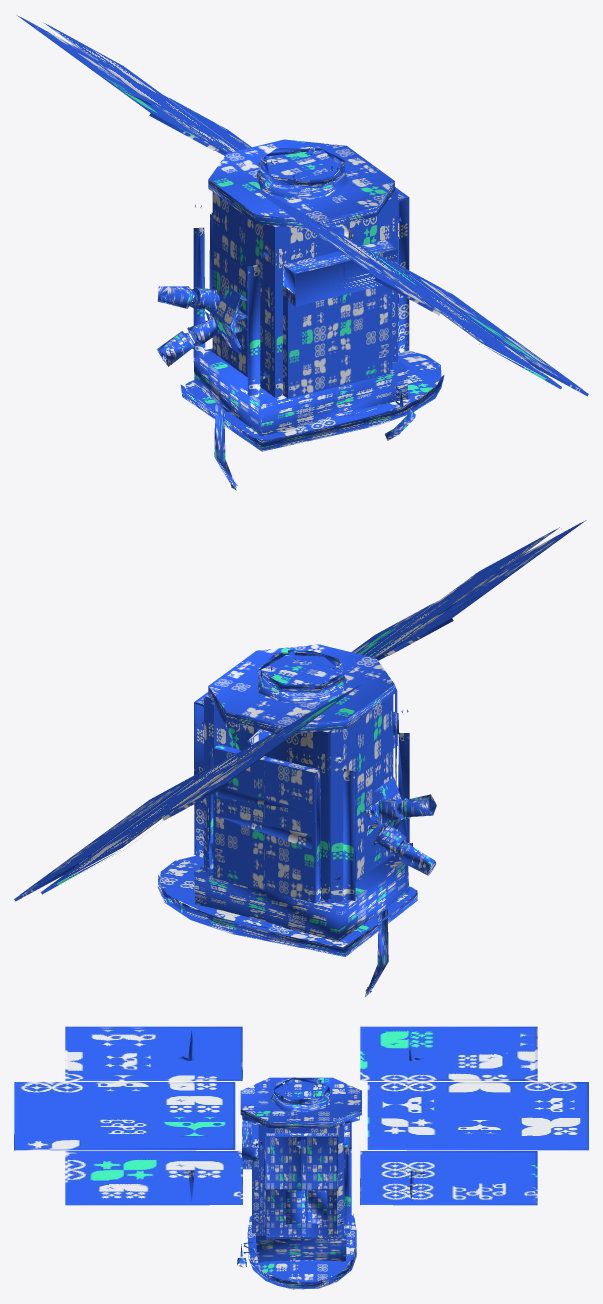
File: cloudsat-b.glb
The picture shows the model from 3 angles, top to bottom: view 1: azimuth 30°, elevation 25°; view 2: azimuth 150°, elevation 25°; view 3: azimuth 270°, elevation 25°; orthographic projection. The views are drawn at different scales.
Visible parts, largest first — view 1: A; view 2: A; view 3: A.
Boxes of the visible parts, x1,y1,x2,y2 form: A: (17, 15, 588, 490); A: (14, 520, 586, 996); A: (14, 1026, 588, 1289).
Bounding box in the file's own units: 3.81 × 4.76 × 10.68.
88 materials, 88 textured.
